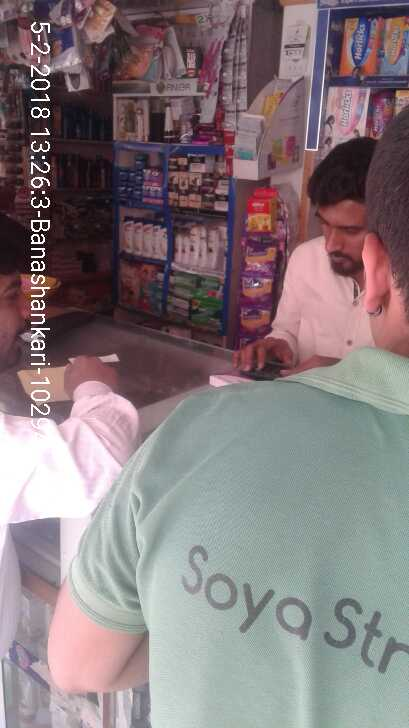beauty: (120, 215, 133, 255), (207, 226, 218, 273), (177, 172, 189, 212), (189, 223, 199, 270), (166, 170, 178, 208), (189, 173, 201, 210), (132, 218, 143, 255), (188, 152, 210, 170), (158, 223, 168, 262), (213, 190, 227, 217), (143, 219, 153, 256), (199, 226, 208, 266), (152, 220, 161, 257)
pharmacy: (189, 295, 225, 330), (135, 155, 147, 172), (119, 165, 129, 184), (151, 168, 161, 187)
